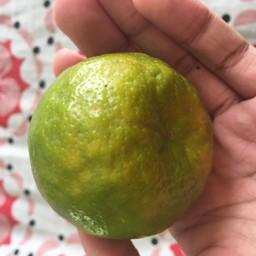Good_orange: (25, 46, 219, 237)
